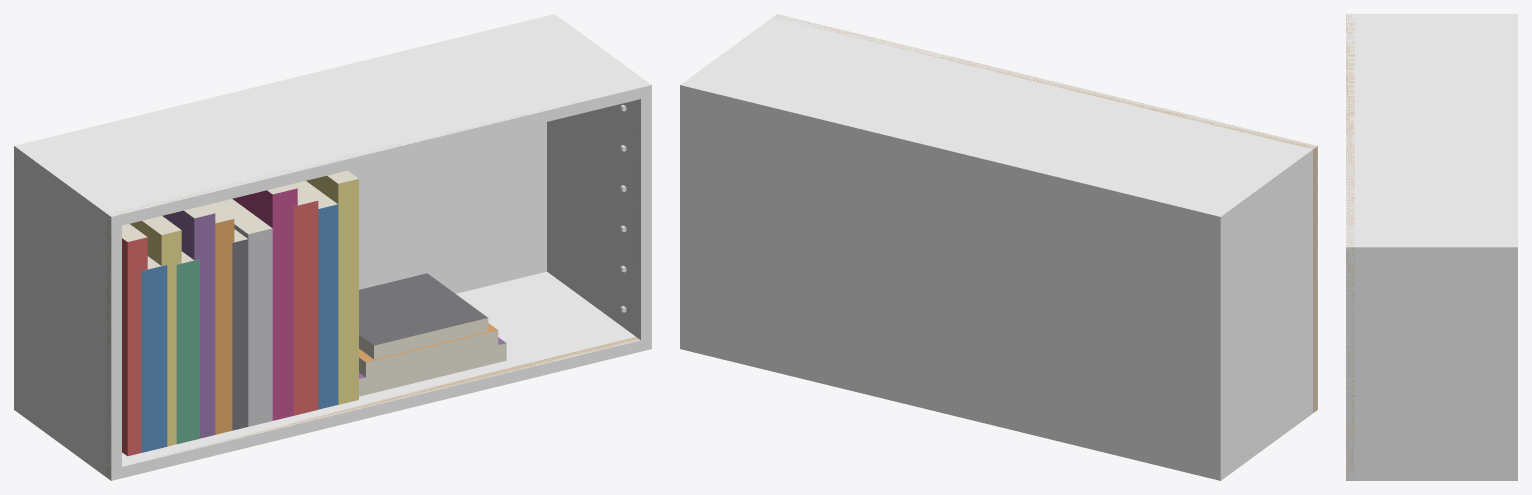
The model's file is BookshelfShelf.glb.
The picture shows the model from 3 angles, left to right: view 1: azimuth 30°, elevation 25°; view 2: azimuth 150°, elevation 25°; view 3: azimuth 270°, elevation 25°; orthographic projection. The views are drawn at different scales.
Parts seen in each view (by area): view 1: Shelf_Top, Shelf_Left, Shelf_Back, Shelf_Right, Shelf_Bottom, Shelf_Book_Flat_2, Shelf_Book_8, Shelf_Book_7, Shelf_Book_9, Shelf_Book_11, Shelf_Book_1, Shelf_Book_0 (+10 smaller); view 2: Shelf_Back, Shelf_Top, Shelf_Left, Shelf_Bottom, Shelf_Right, Shelf_Trim_Top, Shelf_Trim_Left; view 3: Shelf_Top, Shelf_Right, Shelf_Bottom, Shelf_Trim_Top, Shelf_Trim_Right.
Boxes of the visible parts, x1,y1,x2,y2 form: Shelf_Top: [14, 14, 651, 228]; Shelf_Left: [14, 157, 121, 469]; Shelf_Back: [348, 122, 546, 293]; Shelf_Right: [547, 96, 651, 340]; Shelf_Bottom: [14, 271, 651, 480]; Shelf_Book_Flat_2: [359, 273, 488, 359]; Shelf_Book_8: [232, 184, 297, 420]; Shelf_Book_7: [213, 199, 272, 426]; Shelf_Book_9: [292, 183, 318, 415]; Shelf_Book_11: [306, 170, 358, 404]; Shelf_Book_1: [141, 256, 167, 452]; Shelf_Book_0: [122, 224, 147, 456]; Shelf_Back: [691, 99, 1209, 466]; Shelf_Top: [680, 14, 1317, 228]; Shelf_Left: [1210, 157, 1317, 469]; Shelf_Bottom: [680, 338, 1317, 480]; Shelf_Right: [680, 96, 690, 340]; Shelf_Trim_Top: [774, 14, 1317, 160]; Shelf_Trim_Left: [1313, 157, 1317, 401]; Shelf_Top: [1346, 14, 1517, 257]; Shelf_Right: [1346, 257, 1517, 470]; Shelf_Bottom: [1346, 471, 1517, 480]; Shelf_Trim_Top: [1346, 14, 1354, 256]; Shelf_Trim_Right: [1346, 257, 1354, 470].
Bounding box in the file's own units: 0.9 × 0.42 × 0.28.
